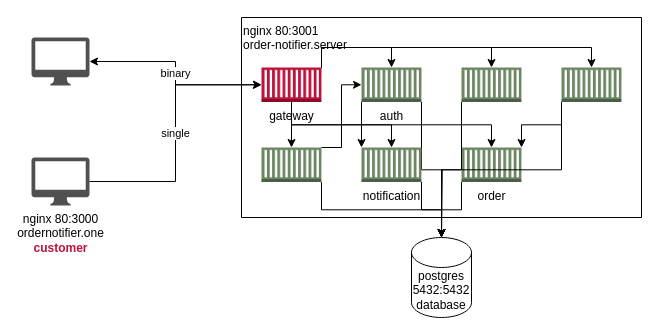
The diagram is 659 pixels wide and 335 high, and some of its shapes have lost their labels. Each missing label, with the centre of its shape:
"cart" belongs at (491,84).
"core" belongs at (291,164).
"nginx 80:3000 ordernotifier.one admin" belongs at (60,61).
"product" belongs at (591,84).
